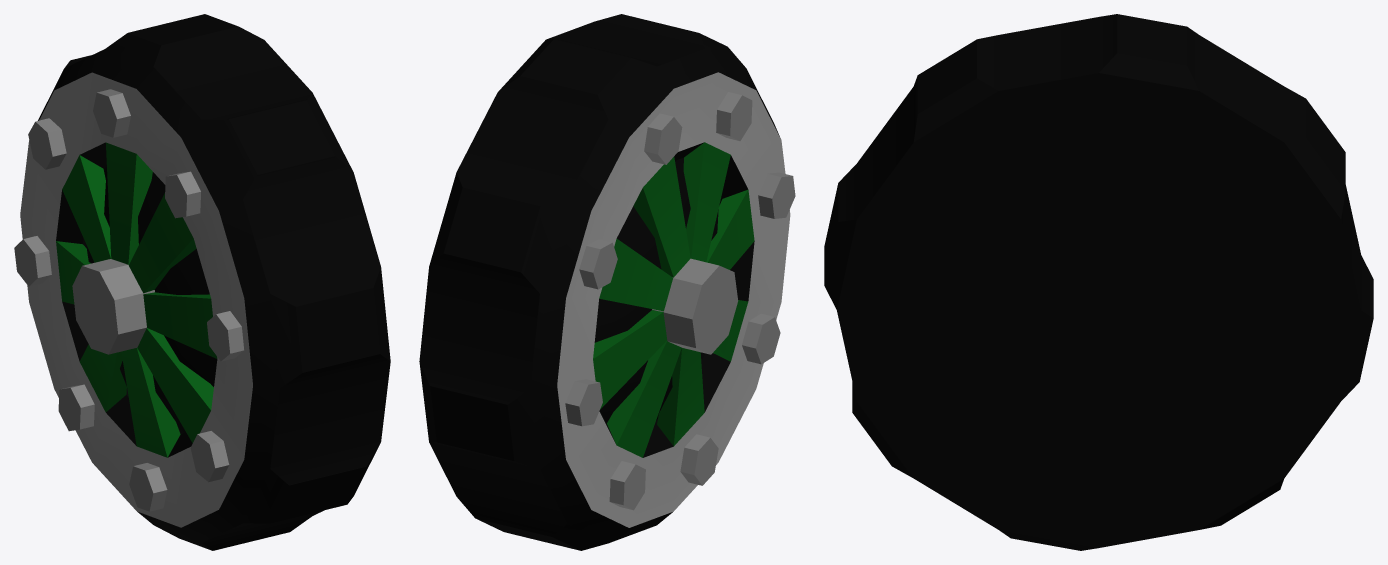
File: RodasReforsadas.fbx
3 renders of one model, left to right at view 1: azimuth 30°, elevation 25°; view 2: azimuth 150°, elevation 25°; view 3: azimuth 270°, elevation 25°, orthographic. The views are drawn at different scales.
Parts seen in each view (by area): view 1: Interior.005; view 2: Interior.005; view 3: Interior.005.
Boxes of the visible parts, box(x1,y1,x2,y2) form: Interior.005: box(14, 14, 390, 550); Interior.005: box(419, 14, 795, 550); Interior.005: box(824, 14, 1373, 550).
Size of the model in its own units: 17.51 by 47.53 by 47.53.
